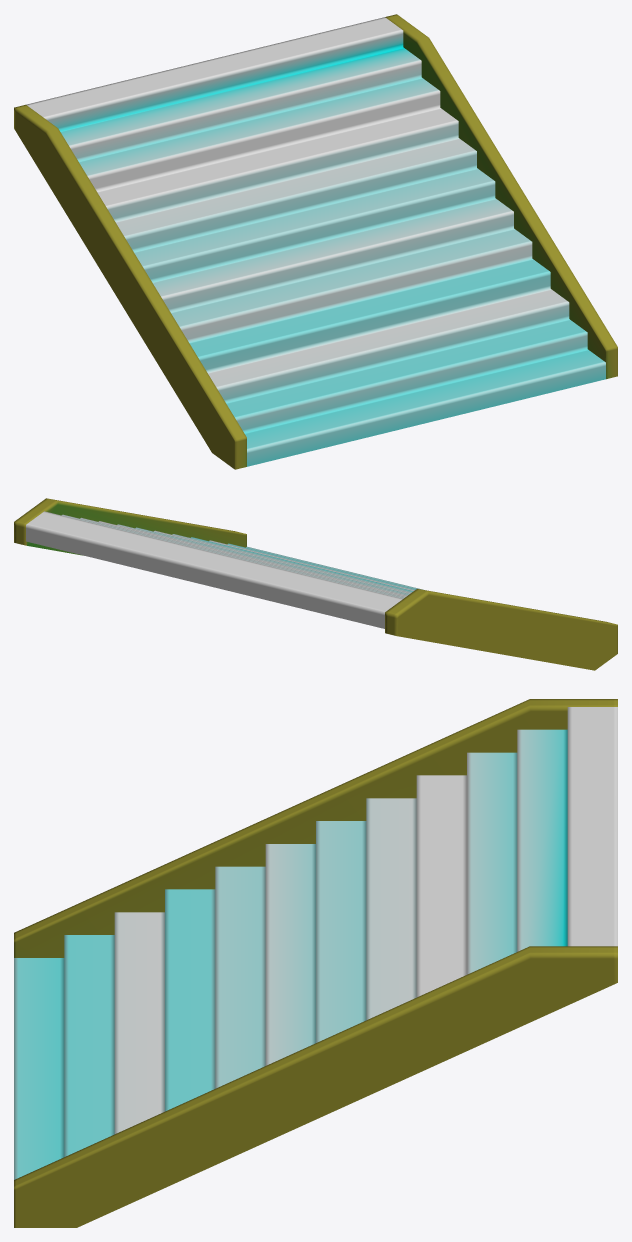
File: SM_SmoothStairs4m.fbx
The picture shows the model from 3 angles, top to bottom: view 1: azimuth 30°, elevation 25°; view 2: azimuth 150°, elevation 25°; view 3: azimuth 270°, elevation 25°; orthographic projection. The views are drawn at different scales.
Visible parts, largest first — view 1: SM_SmoothStairs4m; view 2: SM_SmoothStairs4m; view 3: SM_SmoothStairs4m.
Part boxes in pixels (x1,y1,x2,y2): SM_SmoothStairs4m: (14, 14, 617, 469); SM_SmoothStairs4m: (14, 498, 617, 670); SM_SmoothStairs4m: (14, 699, 617, 1227).
Size of the model in its own units: 400 by 200 by 400.
